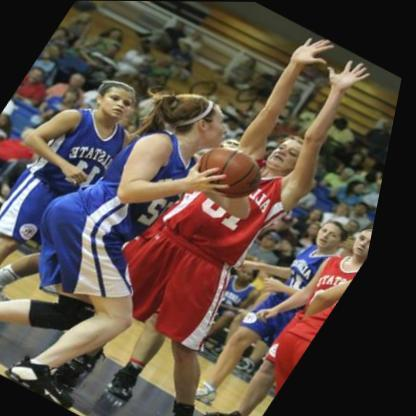basketball: (188, 134, 285, 208)
